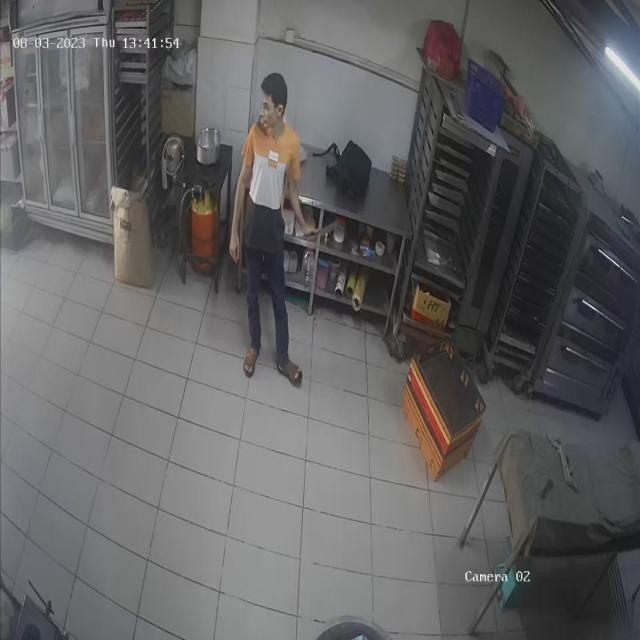Knife: (304, 202, 353, 254)
